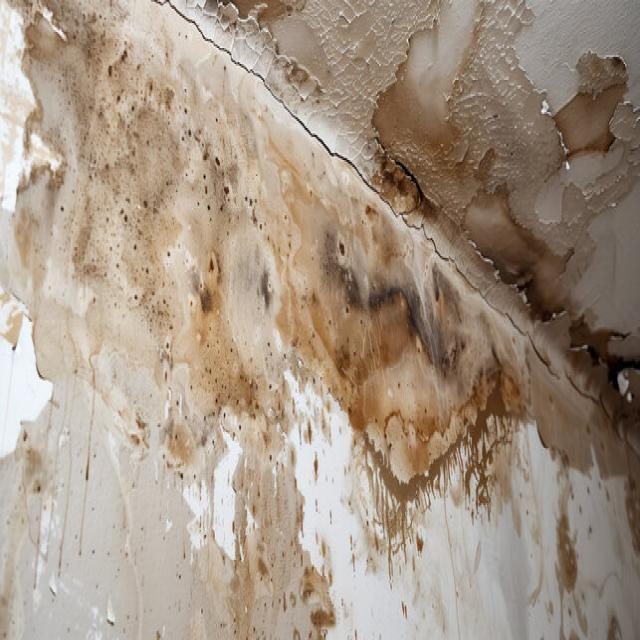dampness: (0, 4, 639, 639)
